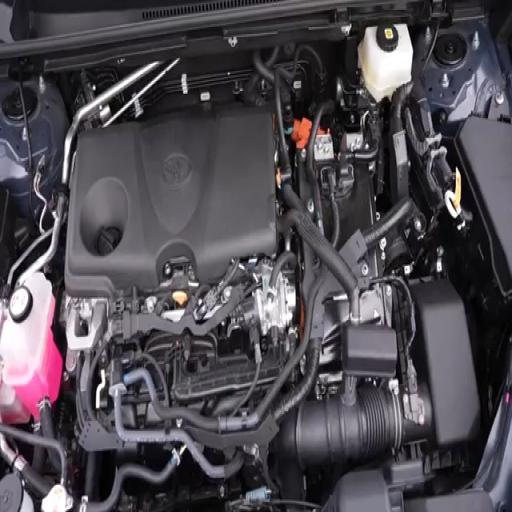hood: (2, 0, 512, 511)
